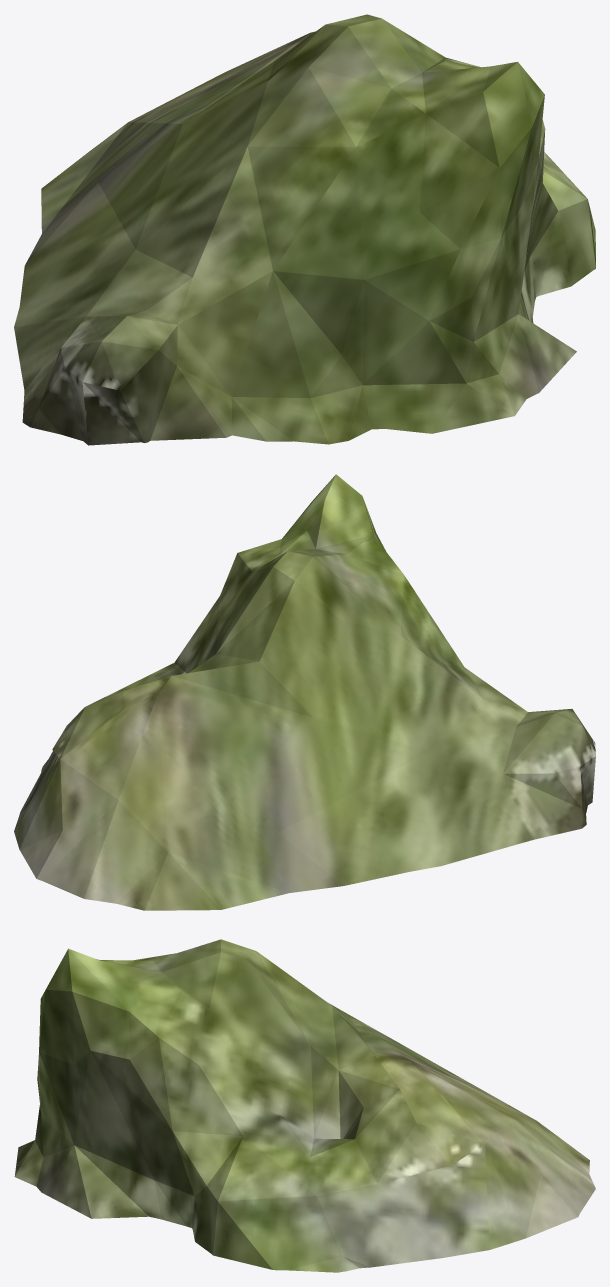
3 renders of one model, top to bottom at view 1: azimuth 30°, elevation 25°; view 2: azimuth 150°, elevation 25°; view 3: azimuth 270°, elevation 25°, orthographic. The views are drawn at different scales.
Size of the model in its own units: 1.45 by 0.6961 by 1.51.
1 material, 1 textured.
